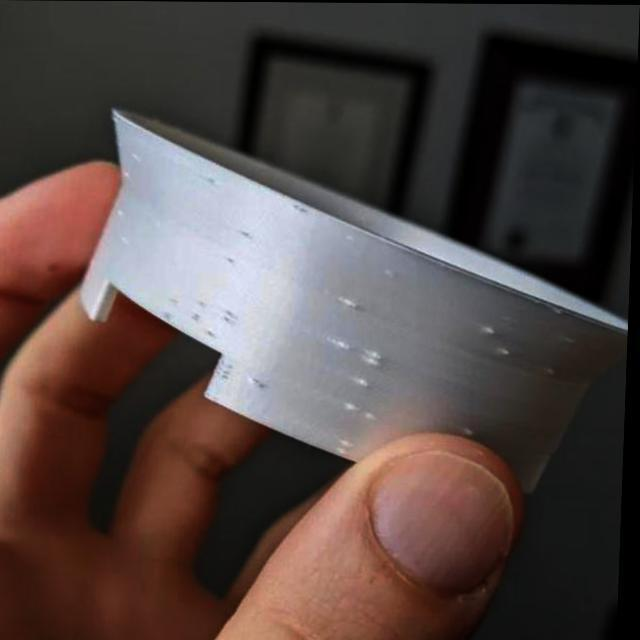zits: (364, 347, 389, 372), (338, 291, 365, 314), (333, 437, 362, 458), (331, 333, 355, 358), (354, 375, 379, 396), (482, 321, 505, 343), (246, 372, 270, 392), (464, 419, 484, 442), (496, 344, 518, 364), (364, 406, 384, 425), (348, 398, 366, 419), (545, 364, 562, 379)
